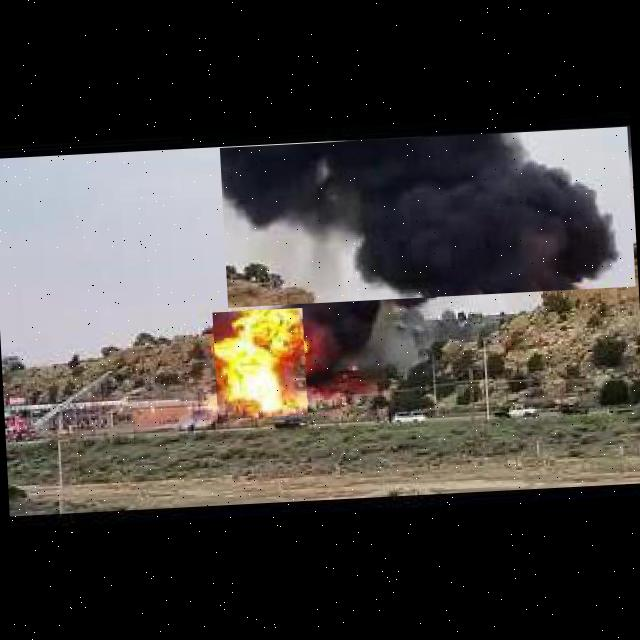fire: (220, 126, 636, 308), (212, 308, 308, 420)
